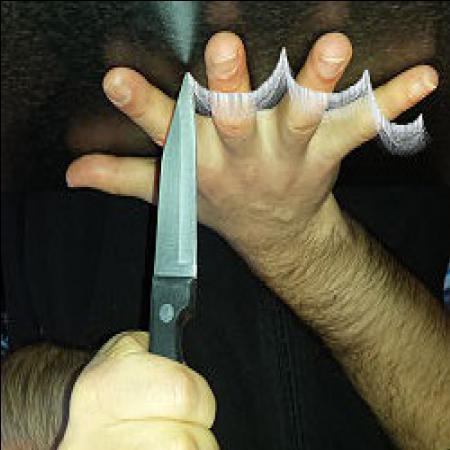long weapon: (134, 69, 204, 422)
